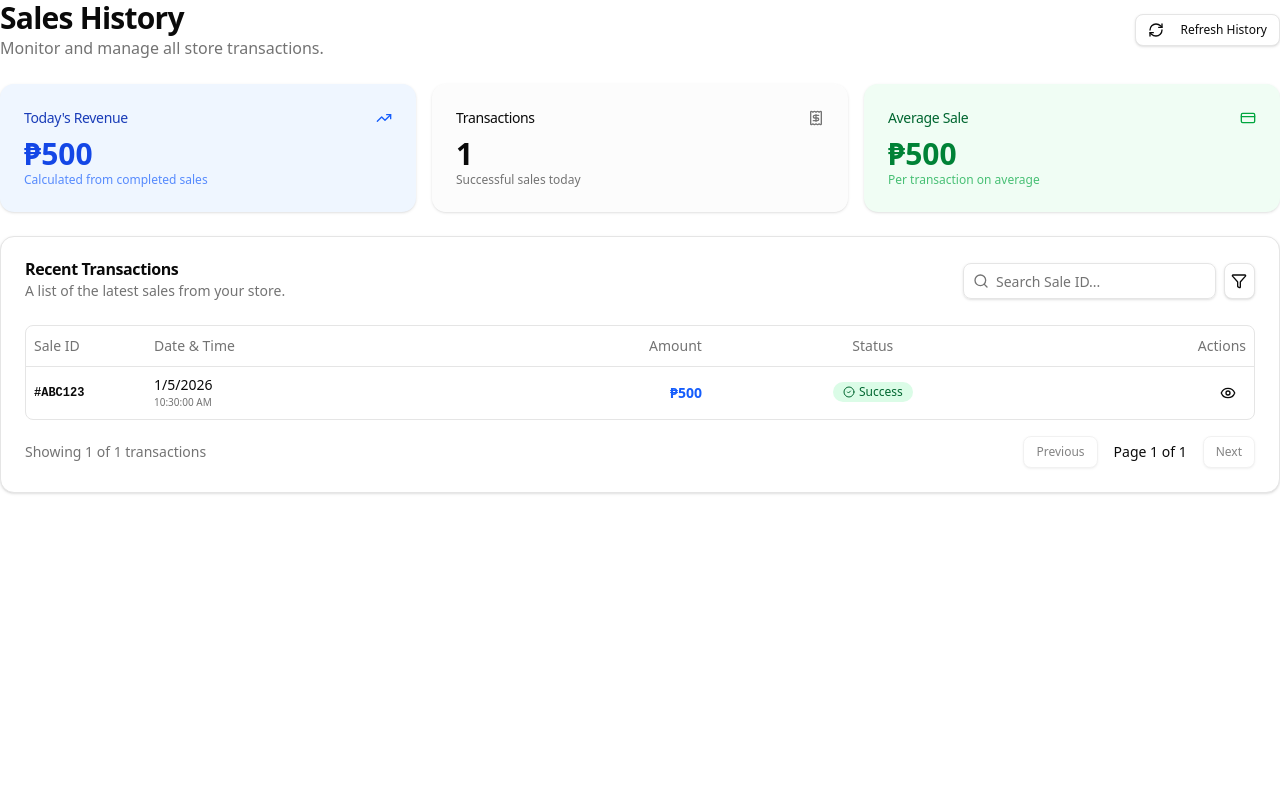
Test: Sales details sheet › falls back to the list row when the detail fetch fails
Step 1. Click the button named "View transaction details" → (1228,392), box [1210,374,1246,410]
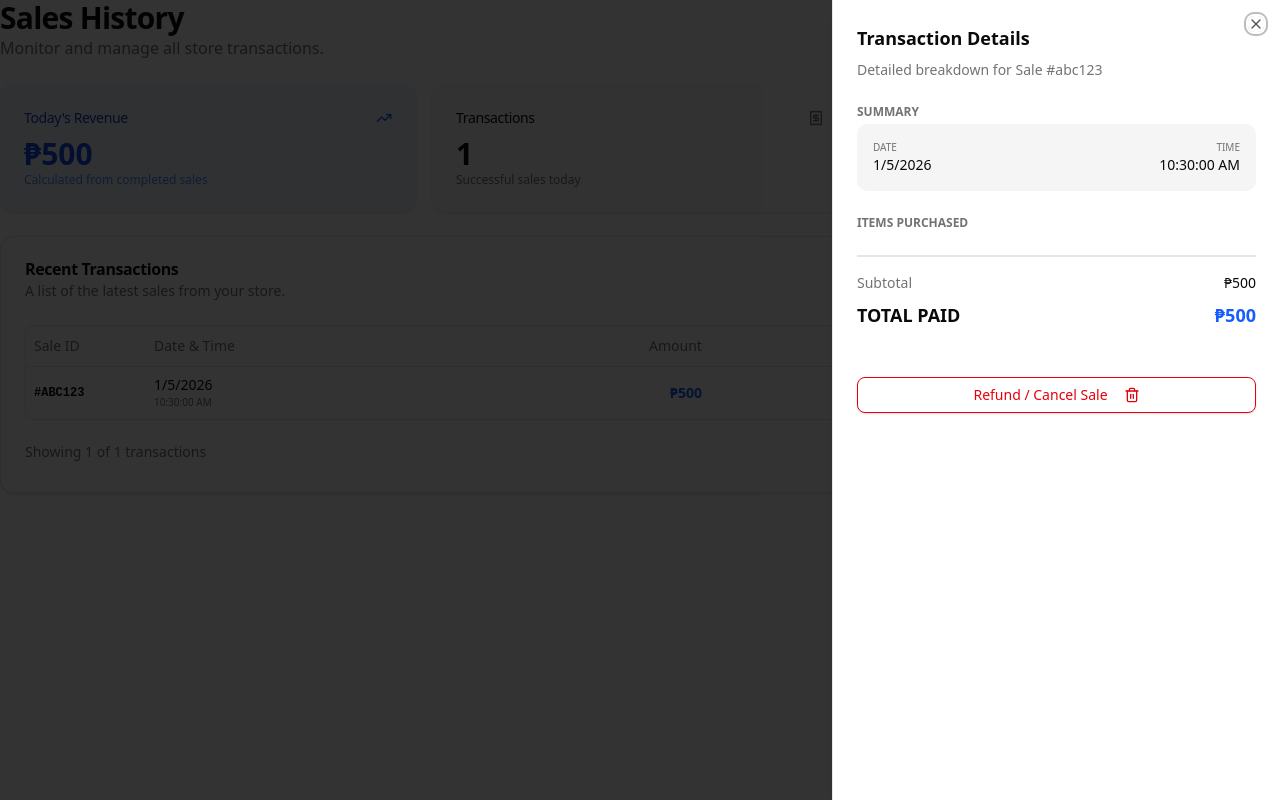
Check: the heading "Transaction Details" is shown, box [857,26,1030,50]
